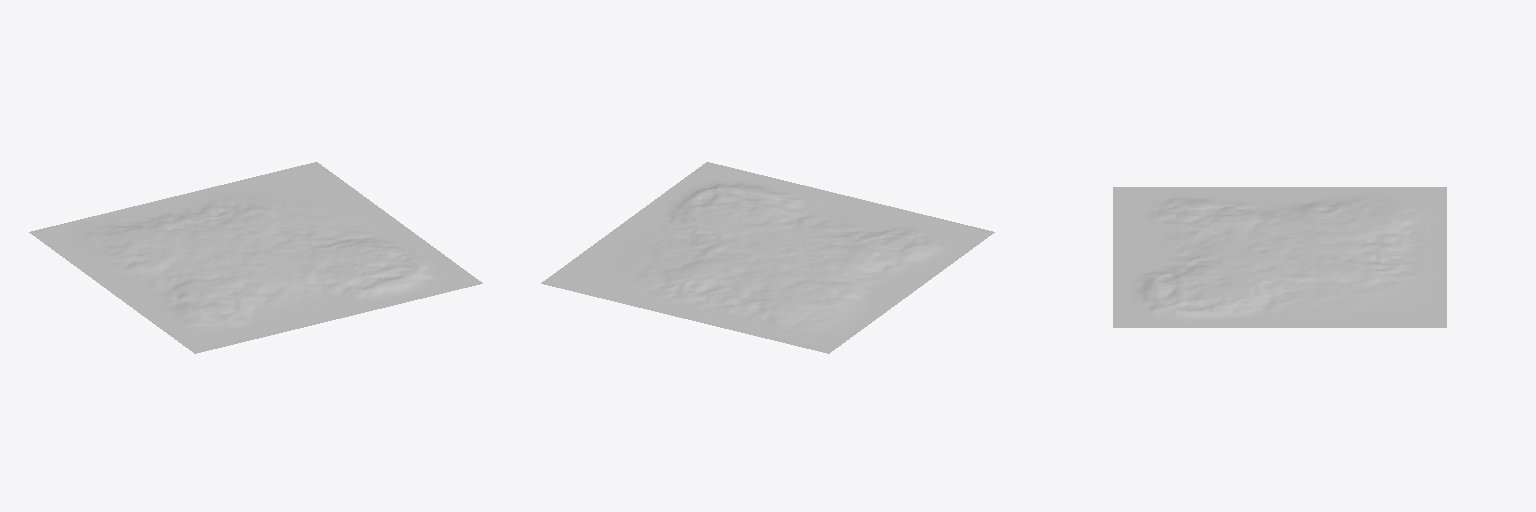
File: ground_10.obj
The picture shows the model from 3 angles: view 1: azimuth 30°, elevation 25°; view 2: azimuth 150°, elevation 25°; view 3: azimuth 270°, elevation 25°; orthographic projection.
Visible parts, largest first — view 1: Plane001; view 2: Plane001; view 3: Plane001.
Part boxes in pixels (bbox=[...]): Plane001: bbox=[29, 162, 482, 353]; Plane001: bbox=[541, 162, 994, 353]; Plane001: bbox=[1113, 187, 1446, 327].
Bounding box in the file's own units: 64000 × 788 × 64000.